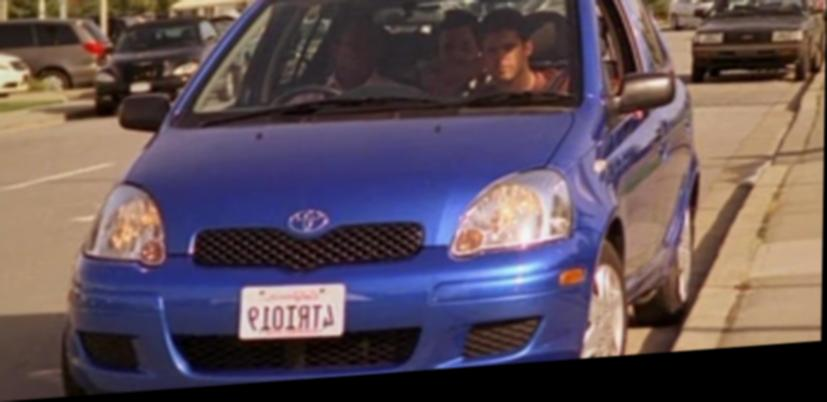License_Plate: (238, 277, 348, 347)
